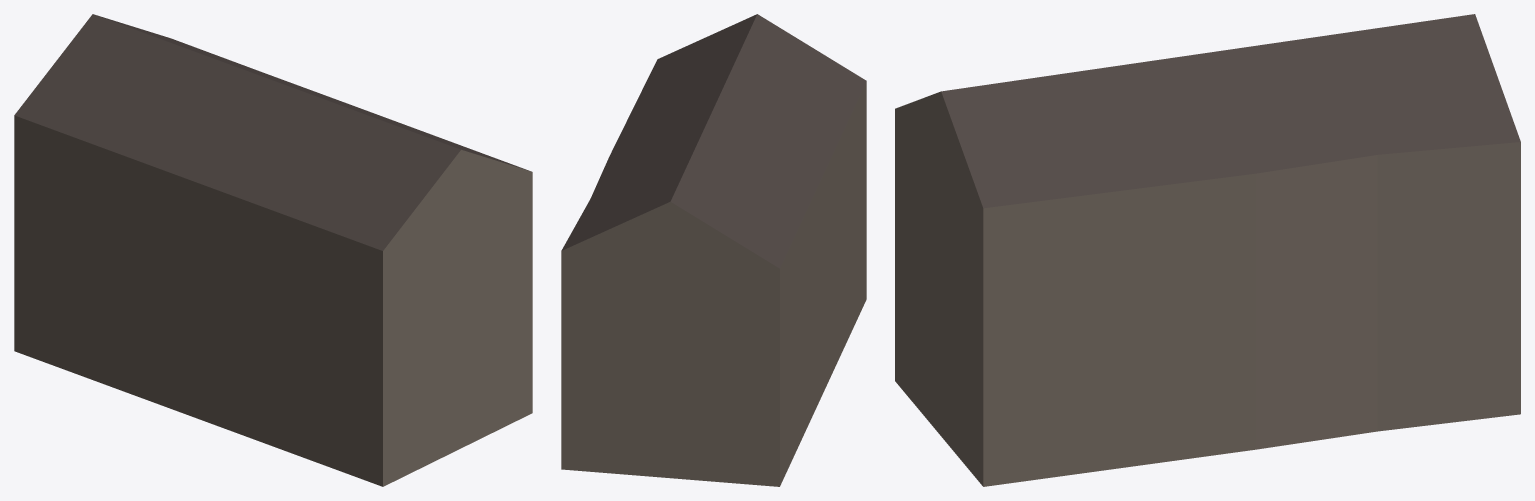
3 renders of one model, left to right at view 1: azimuth 30°, elevation 25°; view 2: azimuth 150°, elevation 25°; view 3: azimuth 270°, elevation 25°, orthographic. The views are drawn at different scales.
Parts seen in each view (by area): view 1: HP-w1198645075; view 2: HP-w1198645075; view 3: HP-w1198645075.
Boxes of the visible parts, <box> form: HP-w1198645075: <box>14,14,532,486</box>; HP-w1198645075: <box>561,14,866,486</box>; HP-w1198645075: <box>895,14,1520,486</box>.
Bounding box in the file's own units: 8.66 × 7.6 × 12.5.
